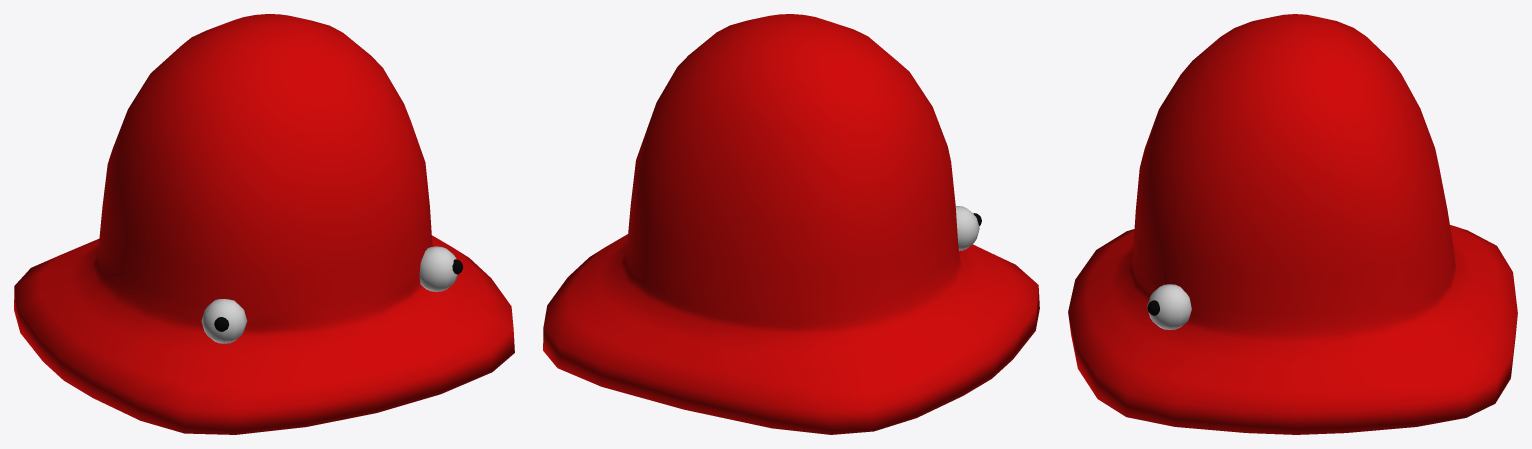
File: prueba animacion.fbx
The picture shows the model from 3 angles, left to right: view 1: azimuth 30°, elevation 25°; view 2: azimuth 150°, elevation 25°; view 3: azimuth 270°, elevation 25°; orthographic projection.
Parts seen in each view (by area): view 1: Sphere001; view 2: Sphere001; view 3: Sphere001.
Part boxes in pixels (bbox=[...]): Sphere001: bbox=[14, 14, 514, 434]; Sphere001: bbox=[543, 14, 1039, 434]; Sphere001: bbox=[1068, 14, 1517, 434].
Bounding box in the file's own units: 2.99 × 2.83 × 2.19.
